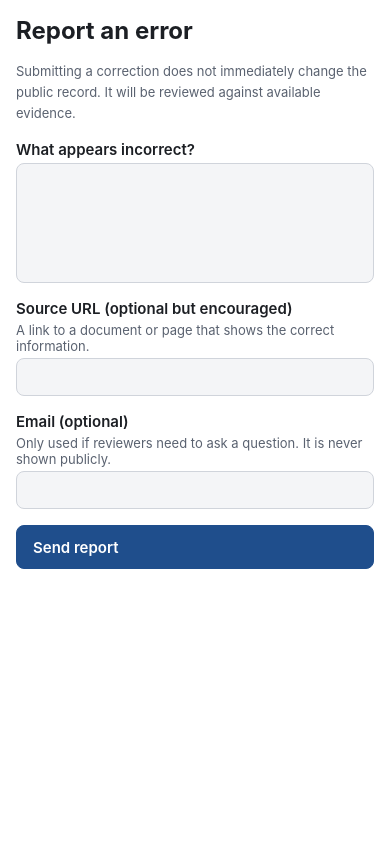
Scenario: ReportErrorView › shows a retryable error when sending fails
In the text box named "What appears incorrect?": (195, 223) 16,163 -> 374,283, type "The birth date looks wrong to me."
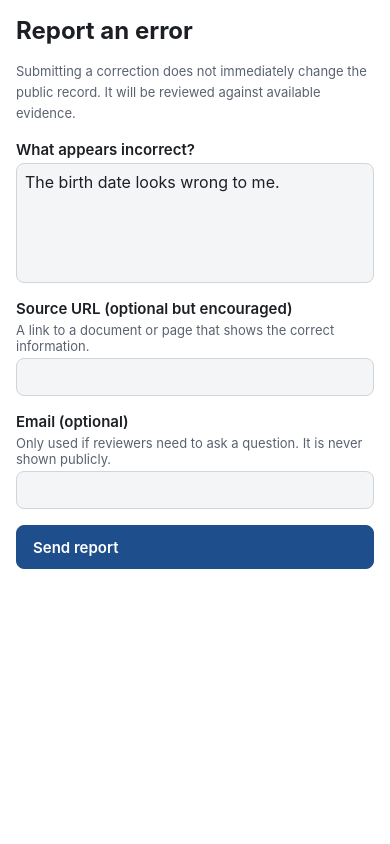
Click the button "Send report": click(76, 547) 16,525 -> 374,569
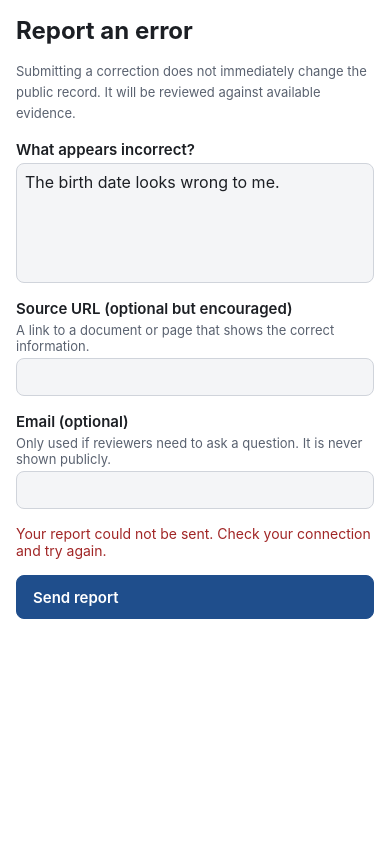
Expected: the button "Send report" is shown, 16,575 -> 374,619
Result: the text "Your report could not be sent. Check your connection and try again." is shown at 16,525 -> 374,559
